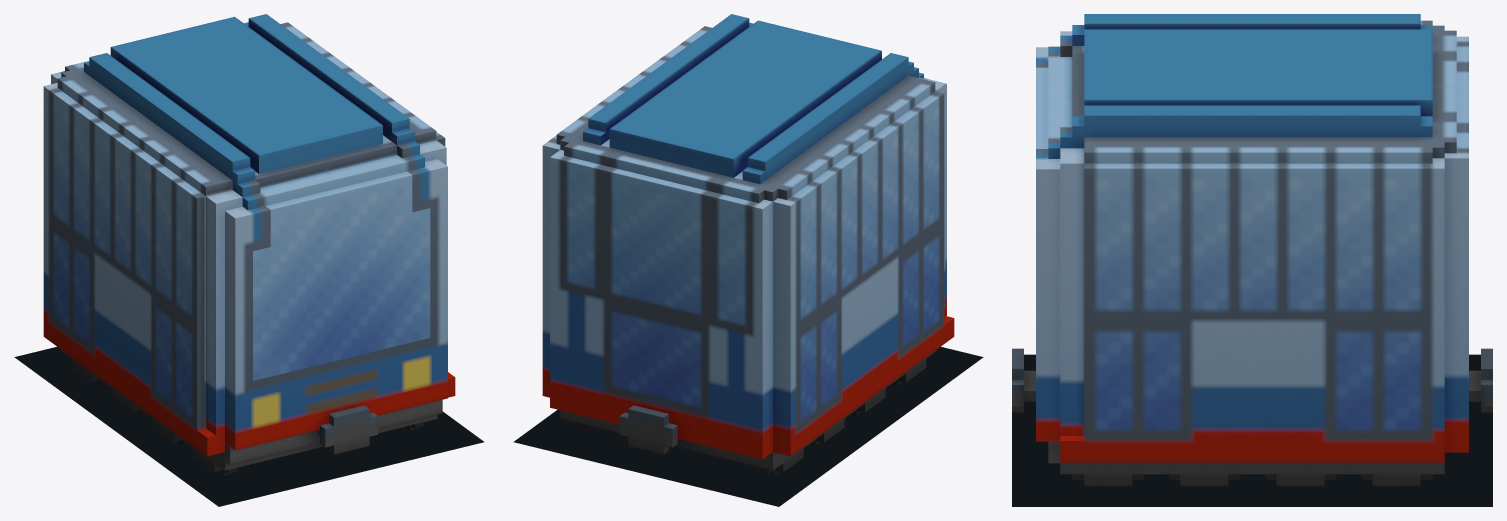
File: metro_head.FBX
3 renders of one model, left to right at view 1: azimuth 30°, elevation 25°; view 2: azimuth 150°, elevation 25°; view 3: azimuth 270°, elevation 25°, orthographic. The views are drawn at different scales.
Visible parts, largest first — view 1: metro_head, metro_soft_shadow; view 2: metro_head, metro_soft_shadow; view 3: metro_head, metro_soft_shadow.
Part boxes in pixels (box(x1,y1,x2,y2)): metro_head: box(43, 14, 455, 475); metro_soft_shadow: box(14, 346, 484, 506); metro_head: box(542, 14, 954, 475); metro_soft_shadow: box(513, 346, 983, 506); metro_head: box(1012, 14, 1492, 486); metro_soft_shadow: box(1012, 354, 1492, 506).
Size of the model in its own units: 750 by 850 by 1000.
